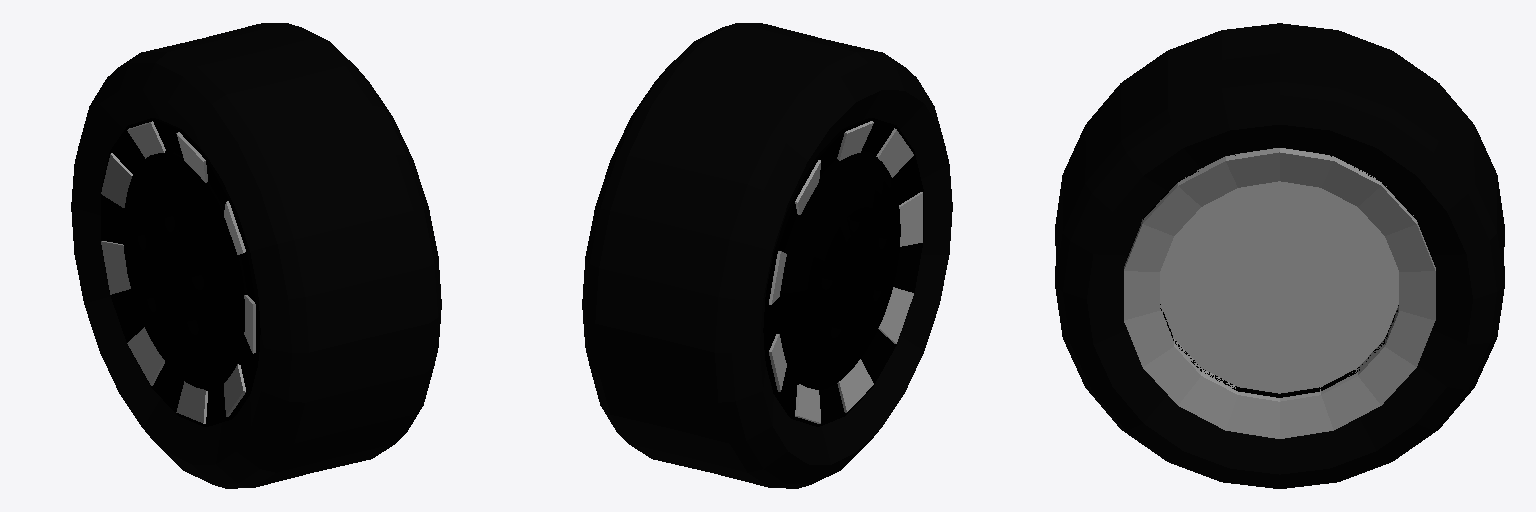
The model's file is llanta_escalada.obj.
3 renders of one model, left to right at view 1: azimuth 30°, elevation 25°; view 2: azimuth 150°, elevation 25°; view 3: azimuth 270°, elevation 25°, orthographic.
Parts seen in each view (by area): view 1: Torus01, Sphere01, Tube01, Tube02; view 2: Torus01, Sphere01, Tube01, Tube02; view 3: Torus01, Cylinder01, Tube02, Tube01.
Boxes of the visible parts, x1,y1,x2,y2 form: Torus01: [71, 23, 441, 488]; Sphere01: [123, 151, 247, 390]; Tube01: [101, 118, 260, 426]; Tube02: [101, 121, 255, 423]; Torus01: [582, 23, 952, 488]; Sphere01: [776, 151, 900, 389]; Tube01: [763, 118, 923, 426]; Tube02: [769, 121, 922, 423]; Torus01: [1055, 23, 1504, 488]; Cylinder01: [1160, 181, 1398, 393]; Tube02: [1124, 148, 1435, 438]; Tube01: [1124, 155, 1435, 397].
Bounding box in the file's own units: 1.86 × 4.05 × 4.05.